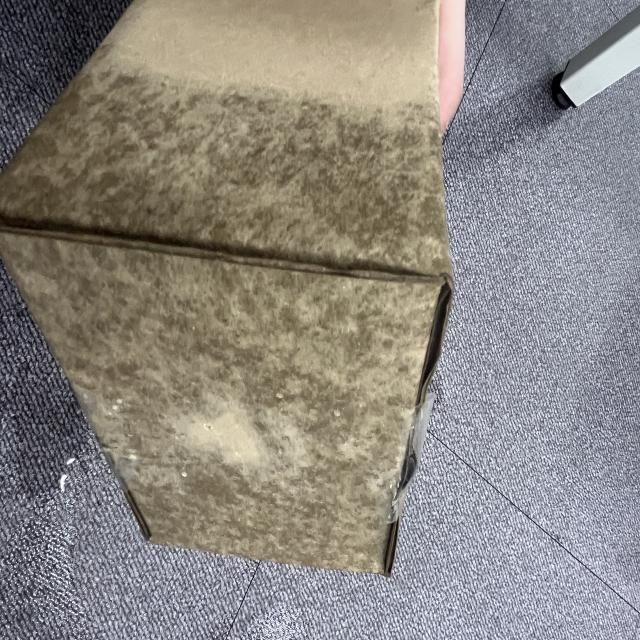hole: (543, 2, 638, 115)
wet: (0, 47, 449, 573)
